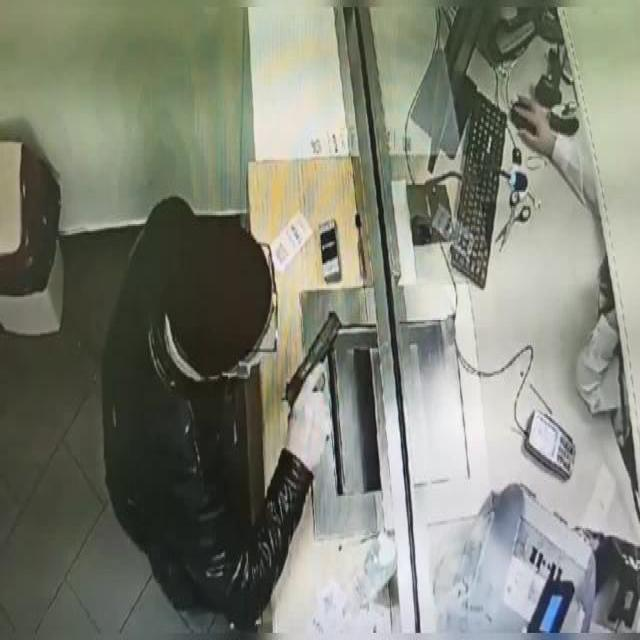pistol: (282, 306, 342, 434)
